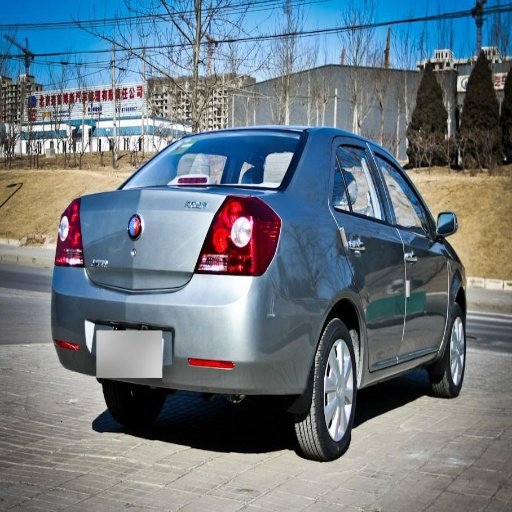back_bumper: (50, 268, 326, 396)
back_left_light: (56, 200, 84, 265)
back_right_door: (331, 136, 403, 370)
tailgate: (82, 205, 180, 290)
trunk: (84, 179, 253, 288)
